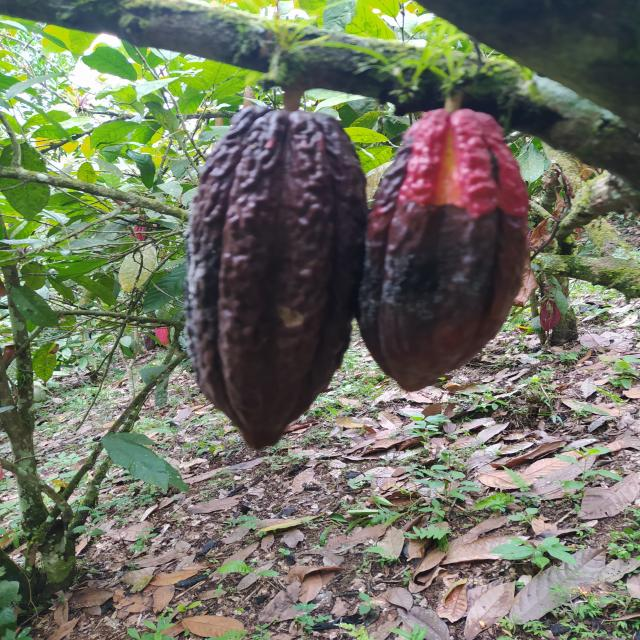Fitoftora: (179, 104, 368, 451), (360, 108, 533, 393), (144, 331, 155, 351)
Sana: (540, 296, 561, 331), (155, 326, 169, 346)
